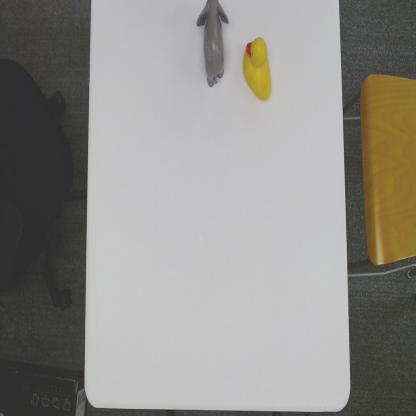Duck: (242, 34, 272, 102)
Elephant: (196, 0, 230, 89)
